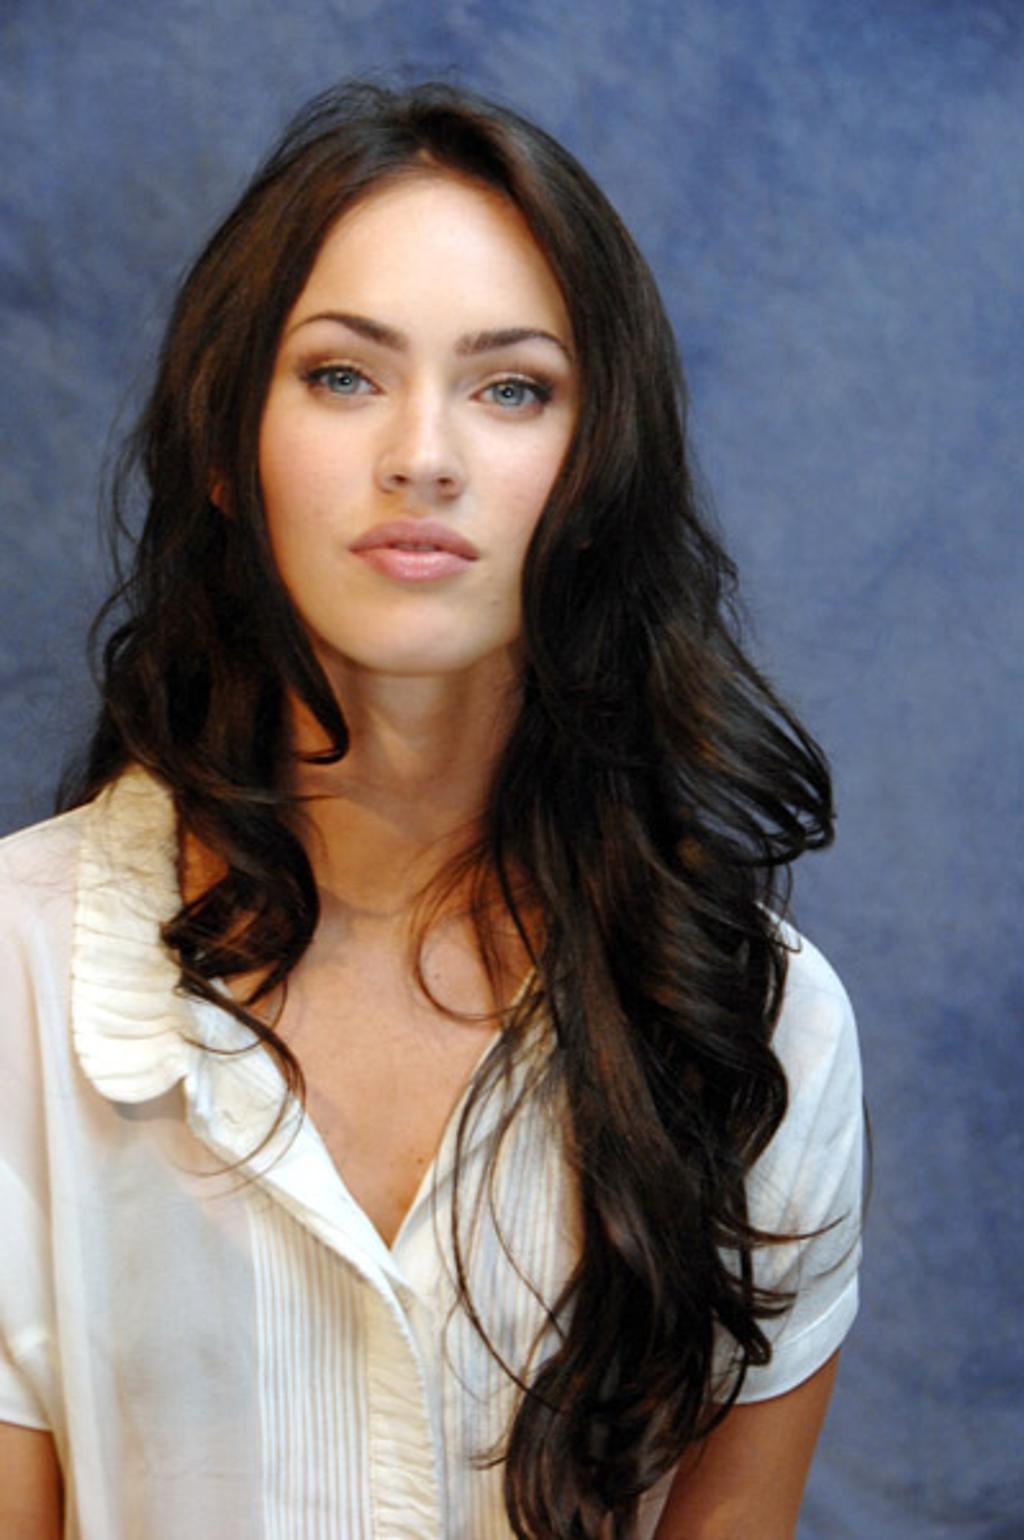face: (247, 178, 611, 669)
